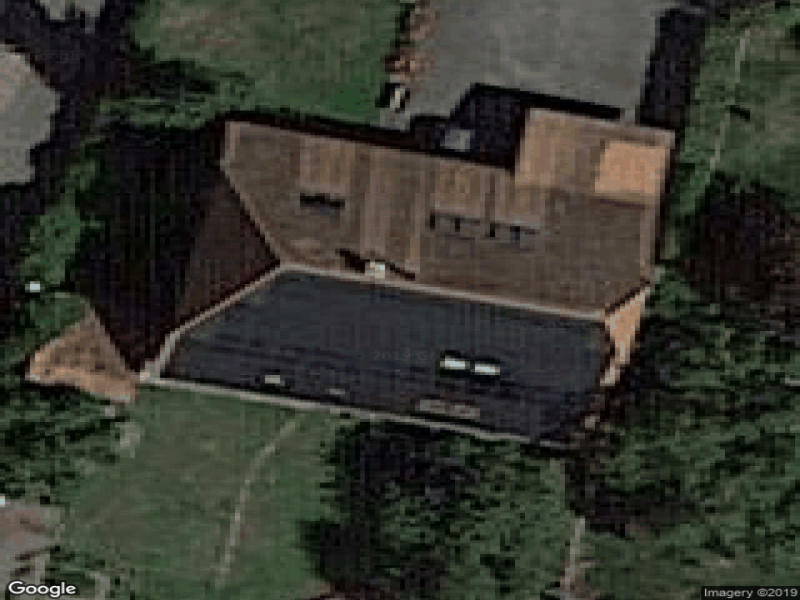pv: (168, 272, 612, 448)
